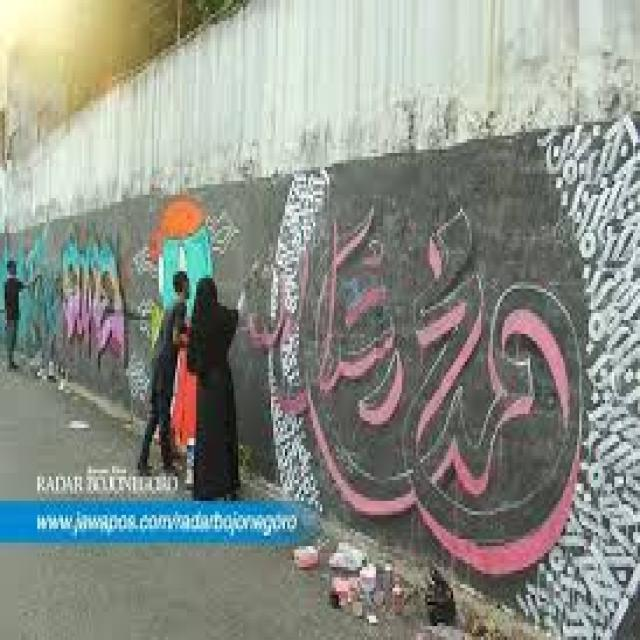-: (246, 203, 586, 577), (542, 108, 638, 640), (270, 162, 326, 520), (148, 192, 214, 456), (58, 227, 130, 361), (0, 225, 59, 343)
